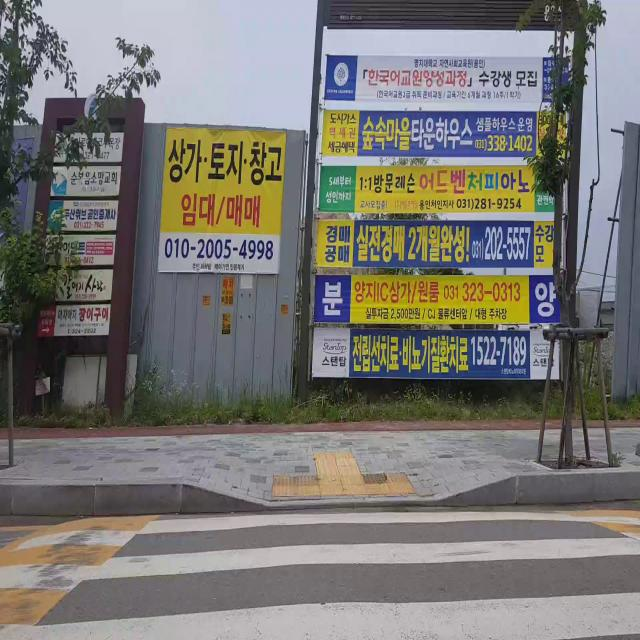횡단보도: (0, 508, 640, 640)
